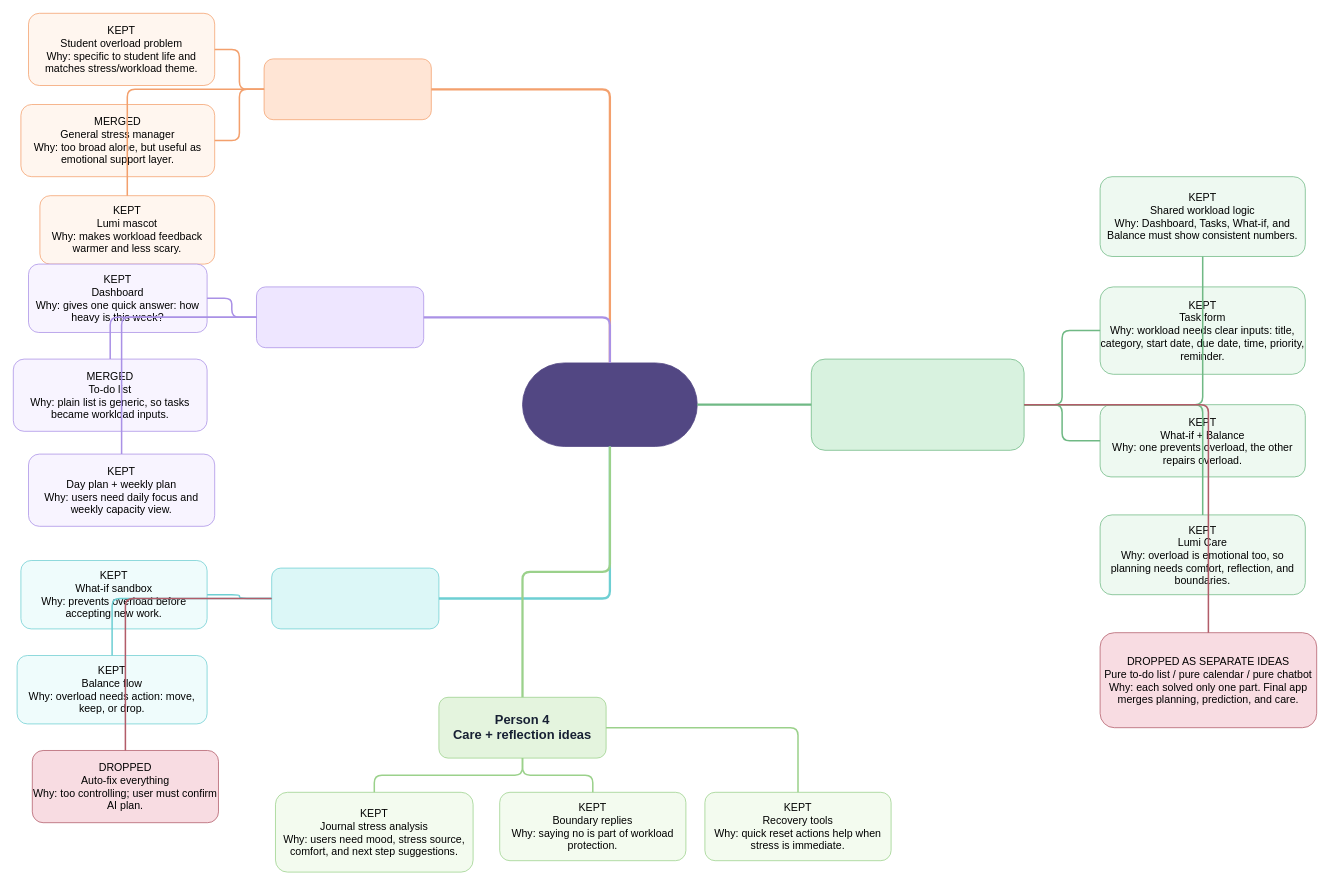
This 1330x885 diagram has some shape labels left out. The shapes that lost their labels are listed below. From the top down, each one's centre as x and y in pixels, then its label:
the point at 347,89: Person 1 Problem + emotional support ideas
the point at 340,317: Person 2 Planning + task ideas
the point at 609,404: Ideas We Considered Team Ideation
the point at 917,404: Final Chosen Direction LoadLight: workload-aware planning + Lumi care
the point at 355,598: Person 3 Decision + overload ideas
